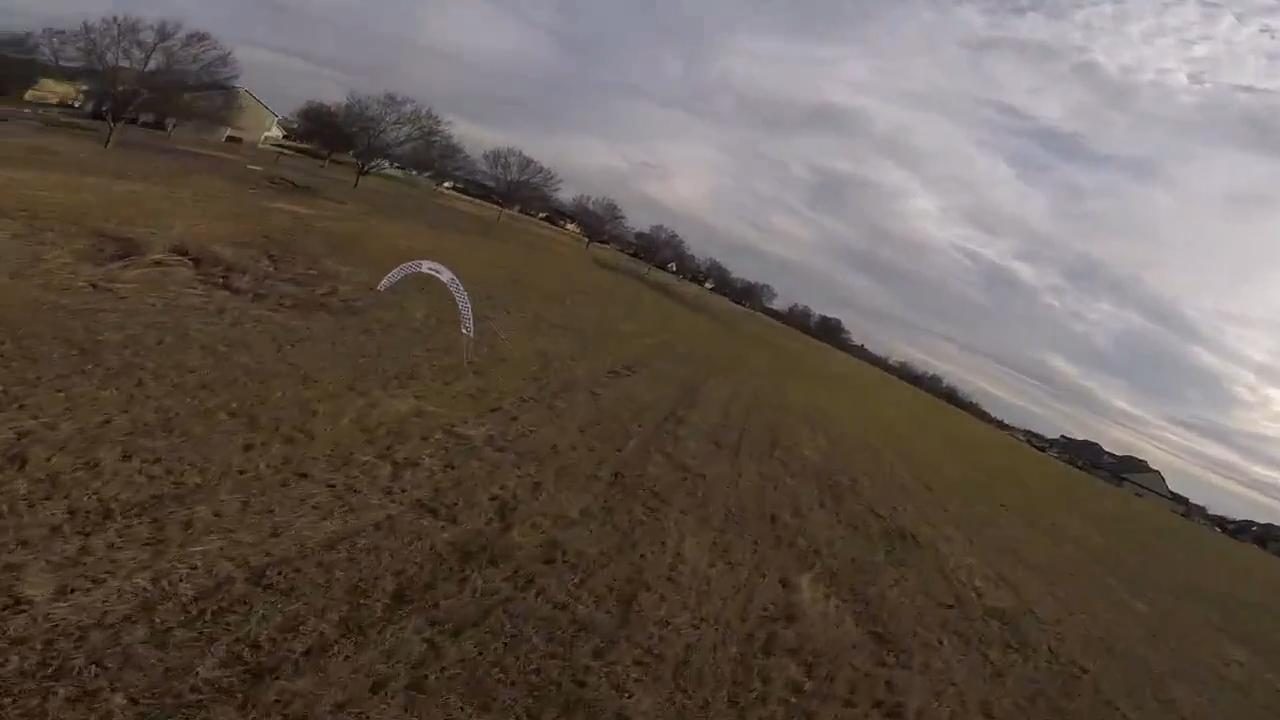gate: (377, 258, 476, 345)
